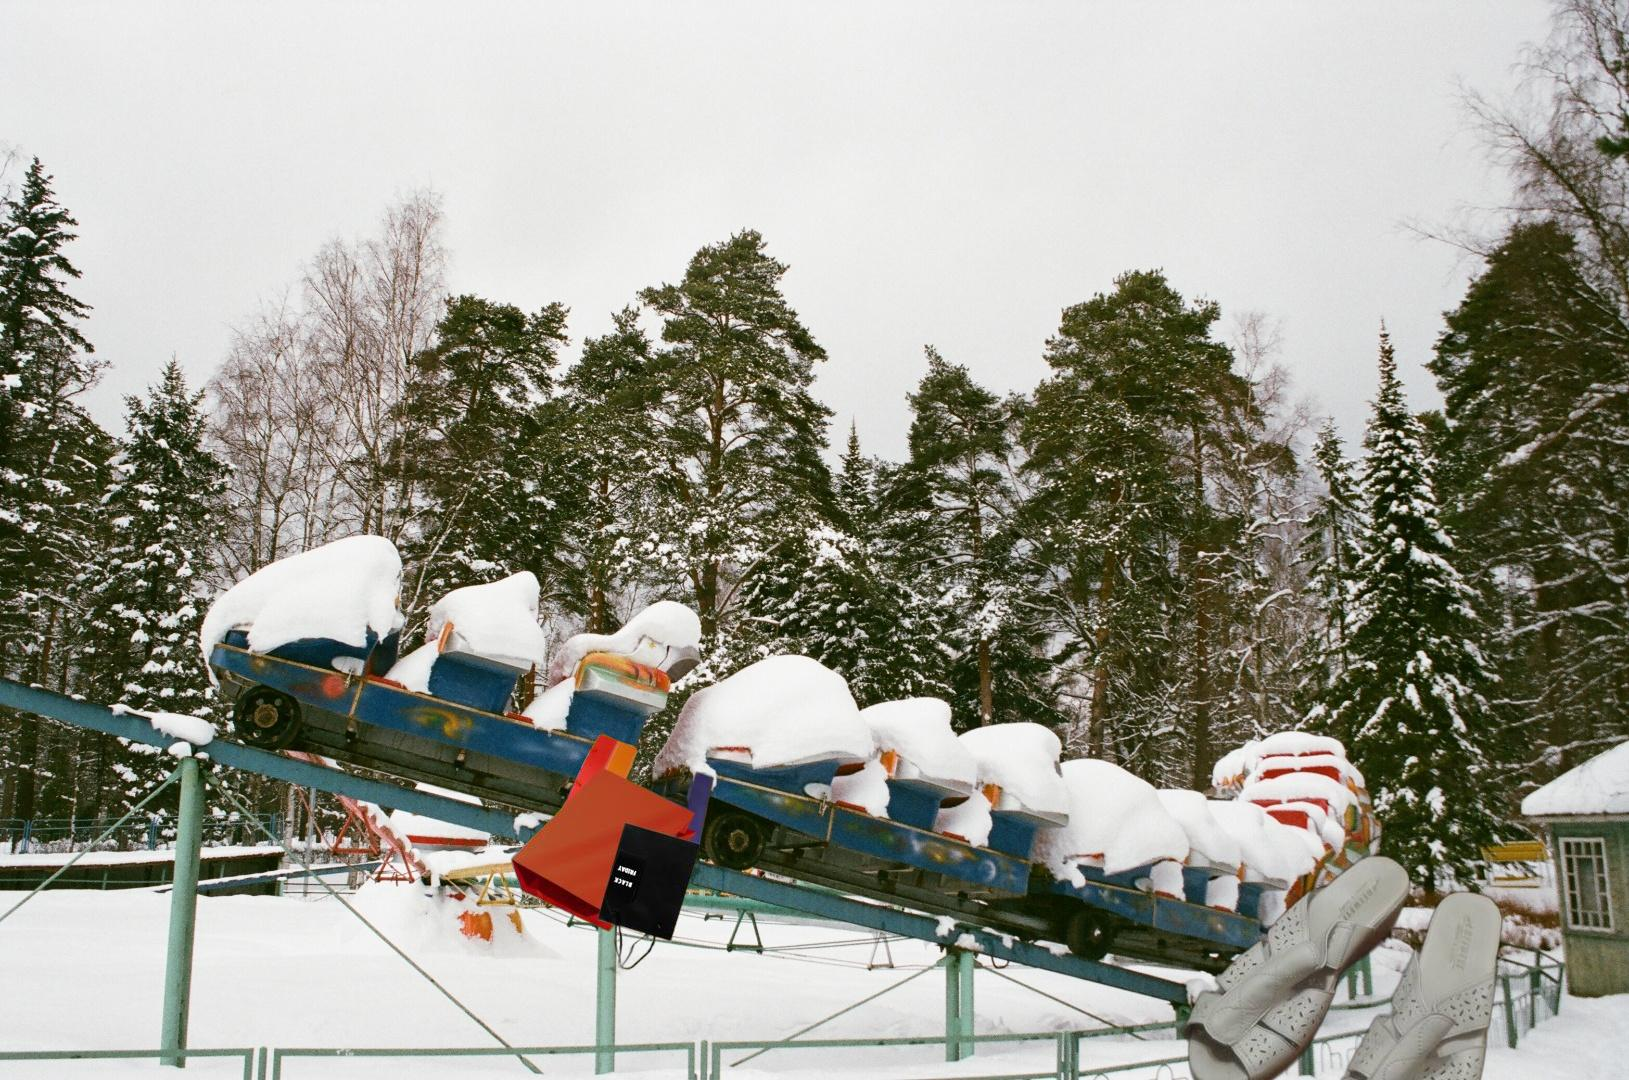paper-bag: (508, 704, 717, 979)
shoes: (1178, 849, 1506, 1080)
